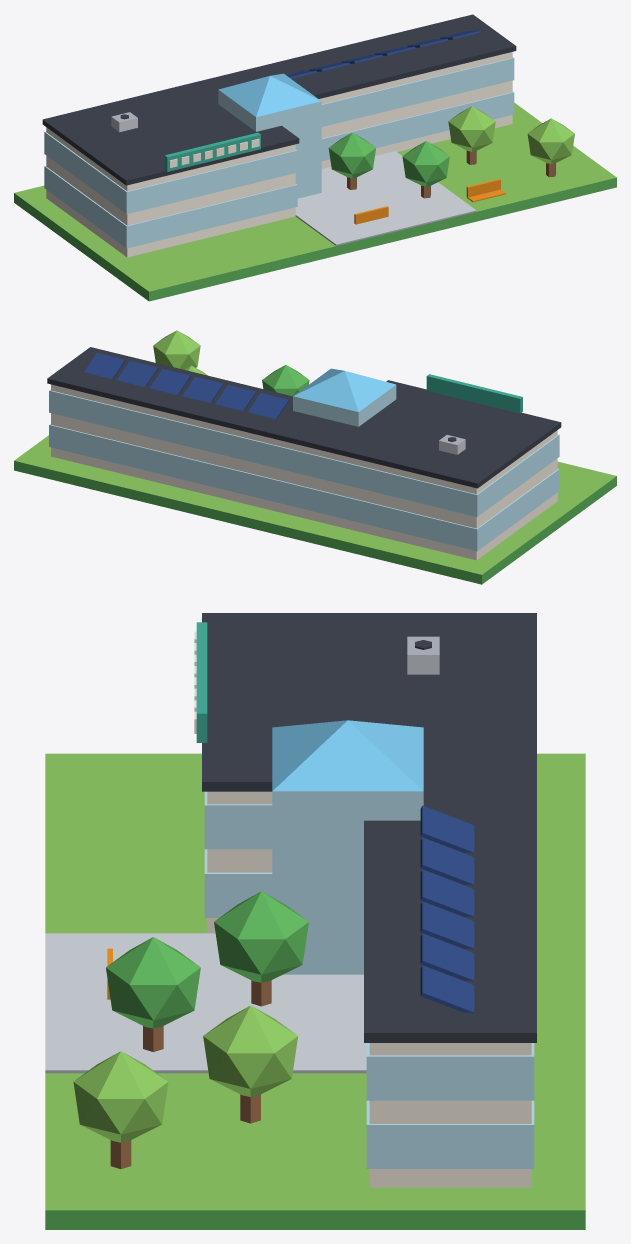
File: office_campus.glb
3 renders of one model, top to bottom at view 1: azimuth 30°, elevation 25°; view 2: azimuth 150°, elevation 25°; view 3: azimuth 270°, elevation 25°, orthographic. The views are drawn at different scales.
Visible parts, largest first — view 1: office_campus; view 2: office_campus; view 3: office_campus.
Part boxes in pixels (x1,y1,x2,y2): office_campus: (14,14,616,301); office_campus: (14,330,616,584); office_campus: (45,613,585,1229).
Size of the model in its own units: 2 by 0.5 by 1.
